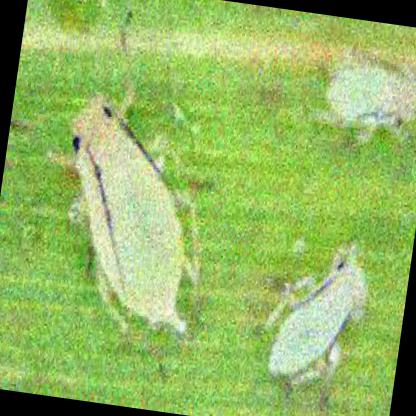schizaphis graminum: (52, 17, 197, 334), (266, 239, 367, 386), (329, 65, 416, 143)
